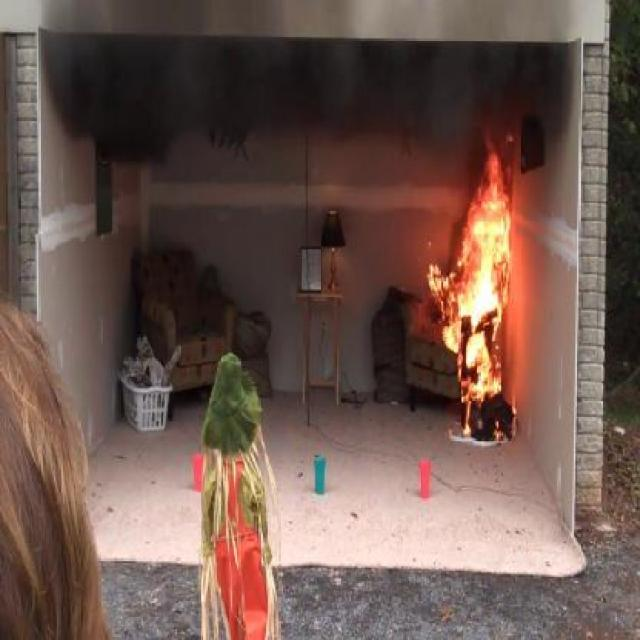fire: (456, 152, 512, 432)
smoke: (34, 24, 566, 178)
